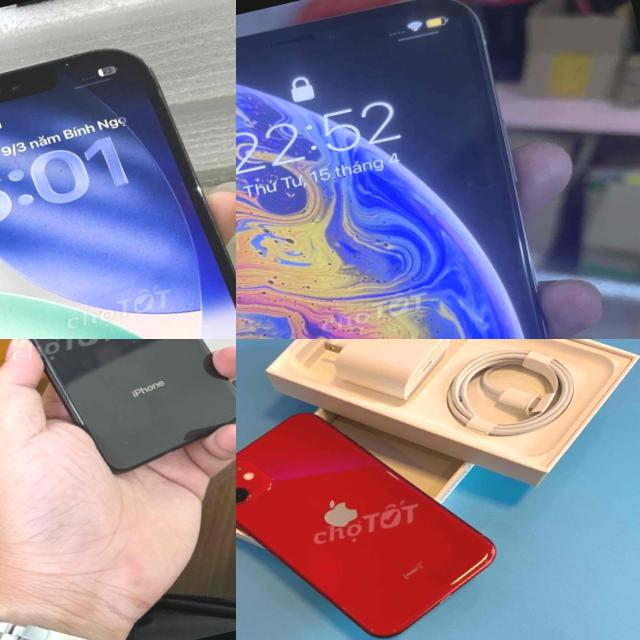gen_11: (236, 371, 529, 640)
gen_12_13: (0, 21, 236, 339)
gen_7_8: (0, 339, 236, 497)
gen_x_xs: (236, 0, 549, 339)
